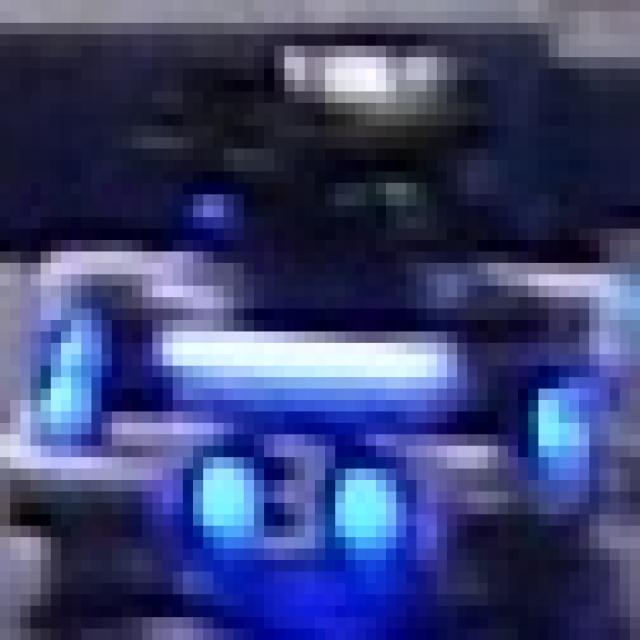B3: (168, 406, 412, 566)
